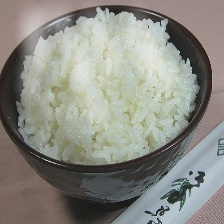rice: (14, 10, 201, 166)
